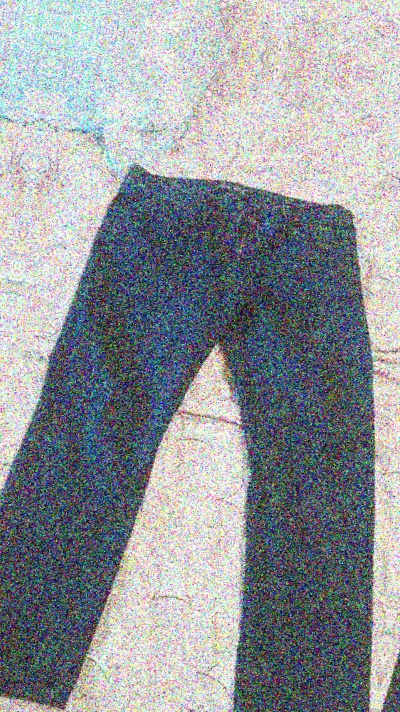Pants: (0, 137, 400, 712), (0, 68, 28, 687), (383, 207, 400, 712)
